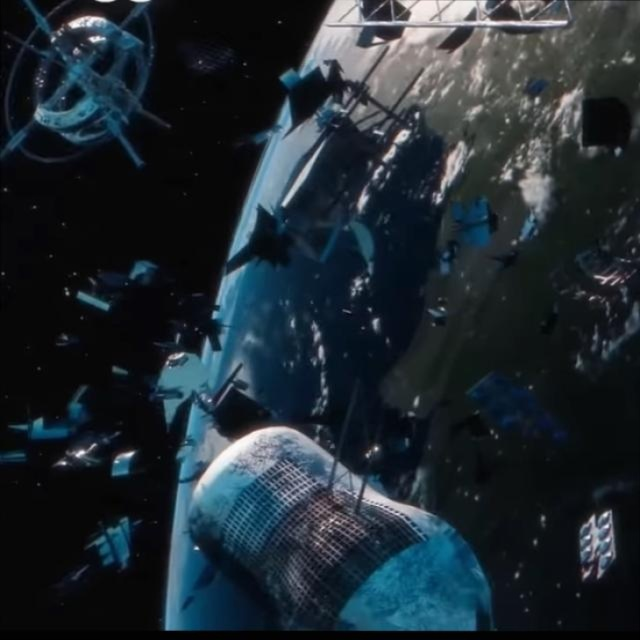large_debris: (182, 407, 507, 640), (215, 52, 456, 300), (3, 2, 177, 178), (0, 379, 140, 491), (317, 2, 579, 38), (50, 239, 167, 317), (143, 325, 222, 430), (552, 490, 624, 594), (556, 80, 640, 167), (80, 506, 151, 582)
